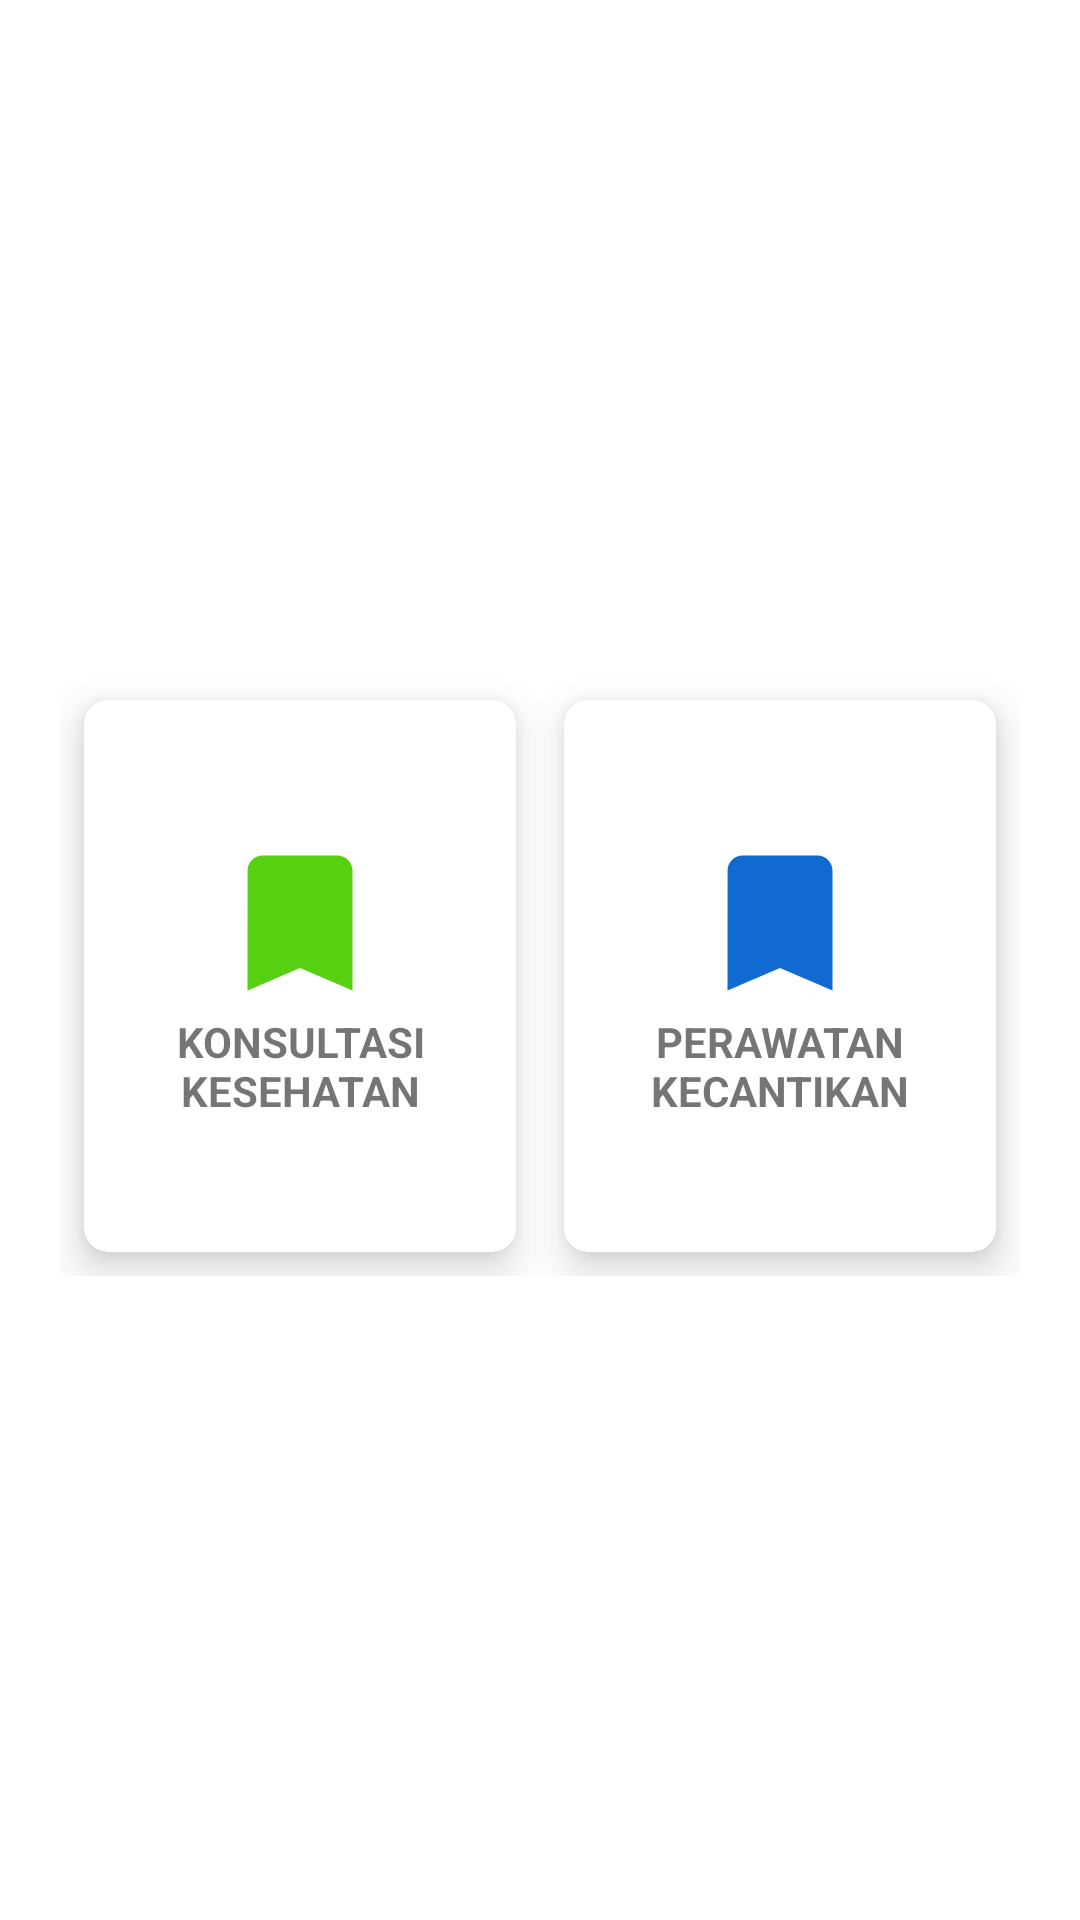

Named icons in this screenshot (1080 × 1920) and their centers, (x,y):
turned in blu: (780,923)
turned in gre: (300,923)
